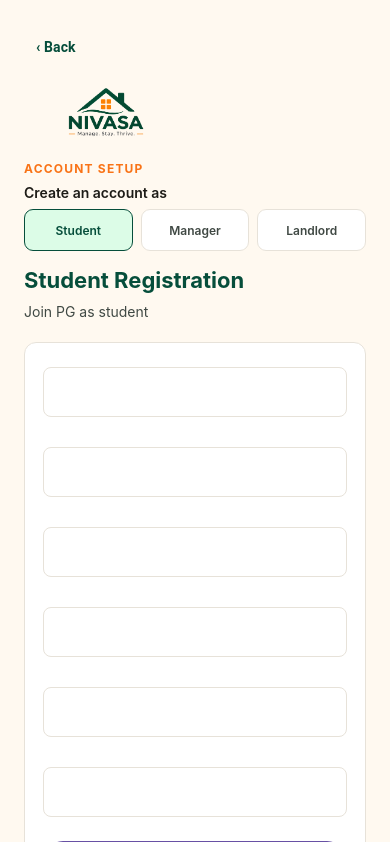
Test: Mobile Authentication Tests › Register Screen › switches between student, manager, and landlord registration forms
This screenshot has width=390, height=842.
Click the button with test id "register-role-manager".
click(195, 230)  # box [141,209,249,251]
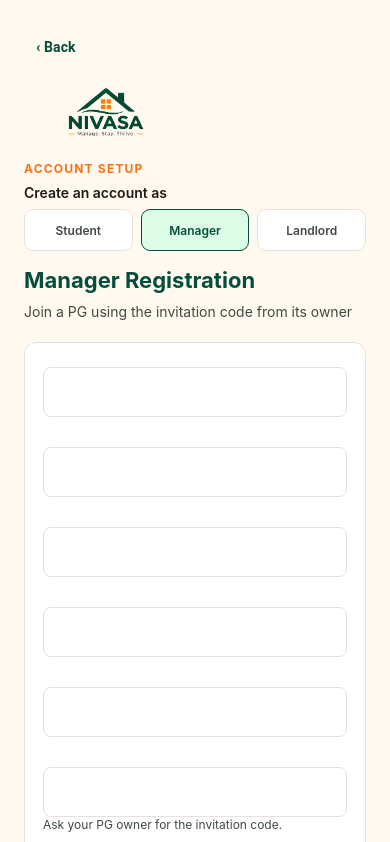
Expected: the field with placeholder "Enter invitation code" is shown, [43,769,347,817]
Expected: the text "Manager Registration" is shown, [24,267,255,293]
Click the button with test id "register-role-landlord".
click(312, 230)  # box [257,209,366,251]
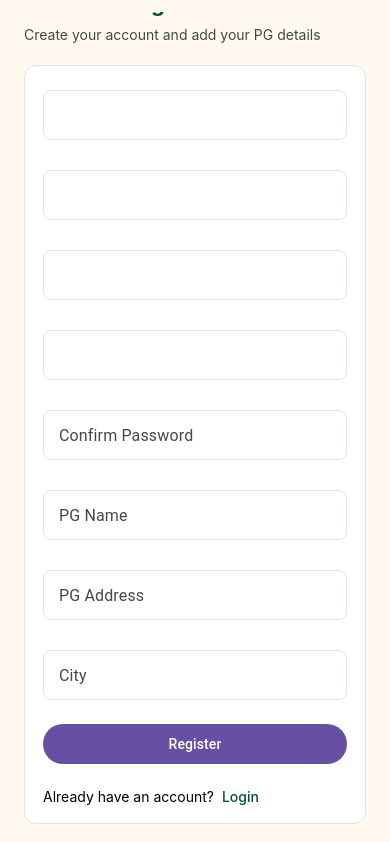
Expected: the field with placeholder "Enter invitation code" is not shown
Expected: the field with placeholder "Enter PG name" is shown, [43,492,347,540]
Expected: the field with placeholder "Enter PG address" is shown, [43,572,347,620]
